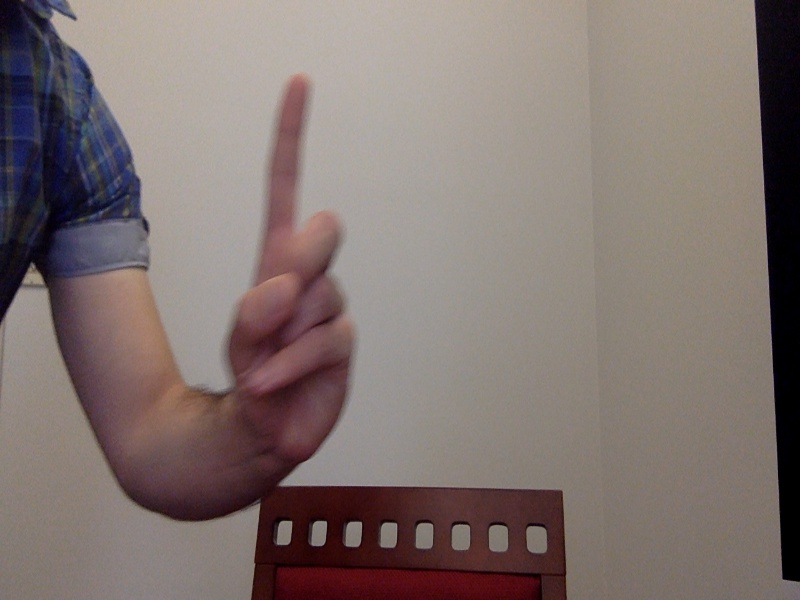1-hand: (201, 77, 360, 459)
